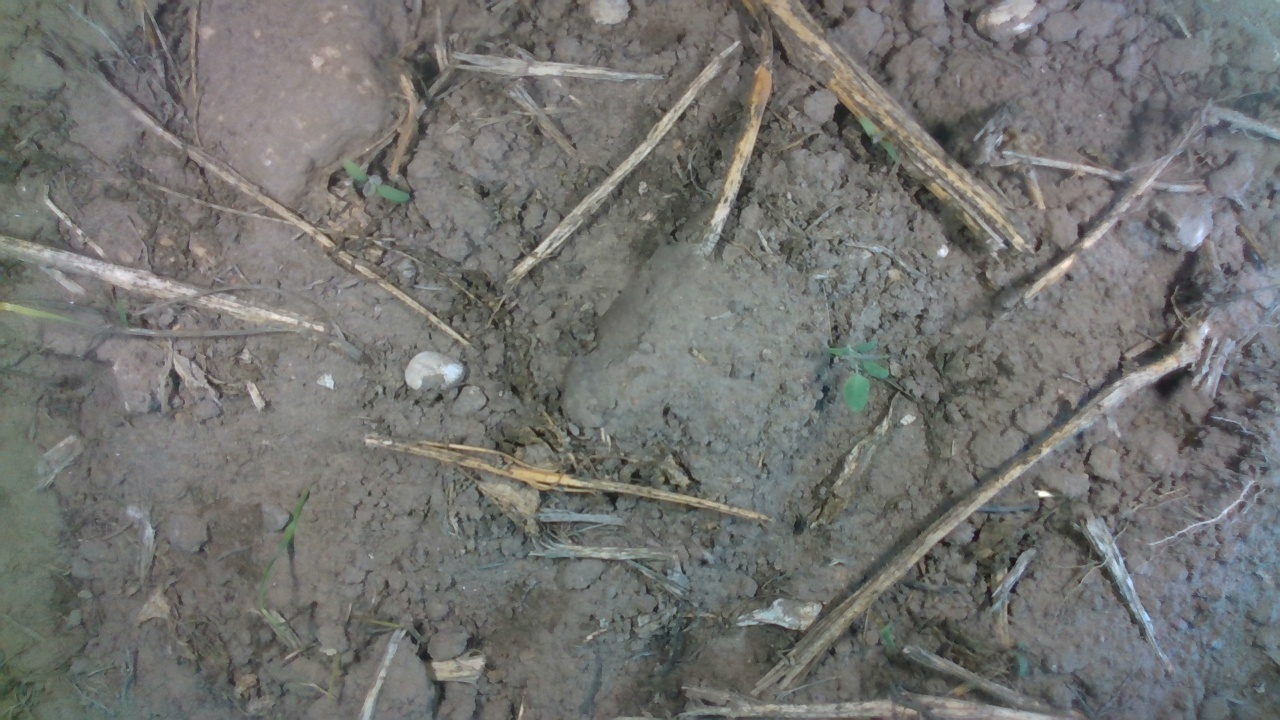weed: (340, 155, 412, 202)
